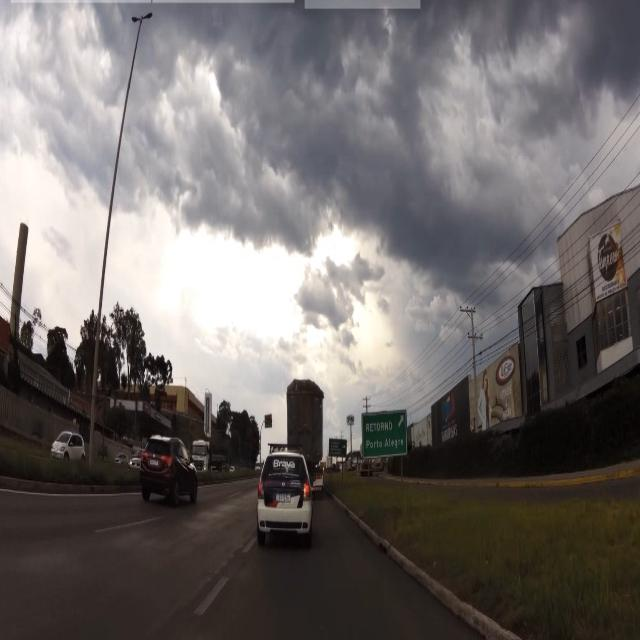I-4: (361, 414, 406, 455)
